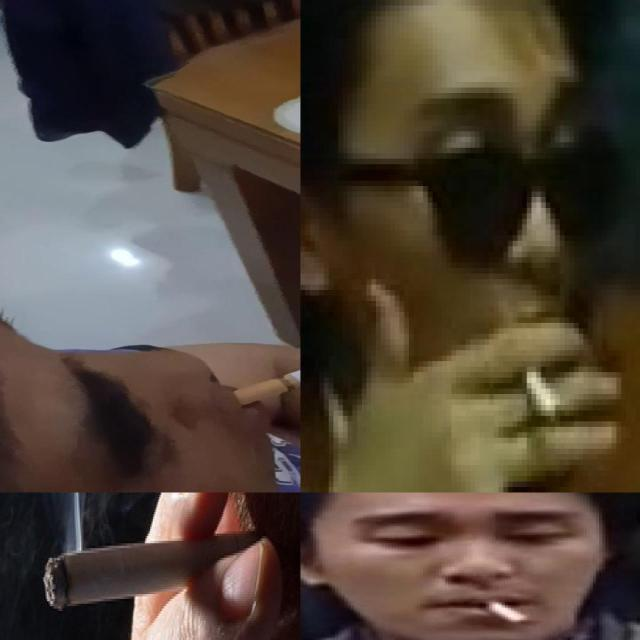smoking: (42, 531, 268, 611), (234, 324, 300, 408), (508, 361, 560, 422), (478, 597, 531, 625)
